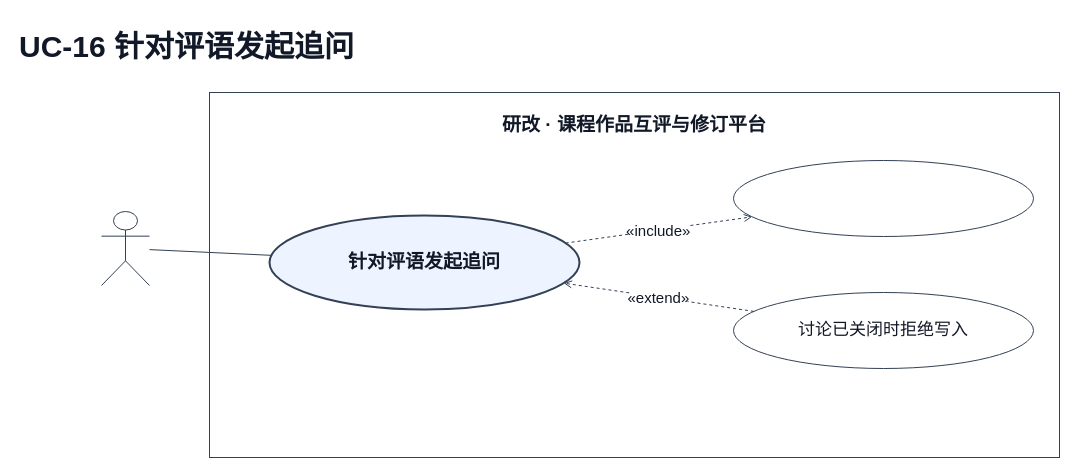
This 1077x475 diagram has some shape labels left out. The box of each missing label's shape, as (x1, y1, x2, y2) in pixels:
学生（作者）: (100, 210, 150, 286)
核对作品归属与讨论状态: (732, 160, 1034, 236)
